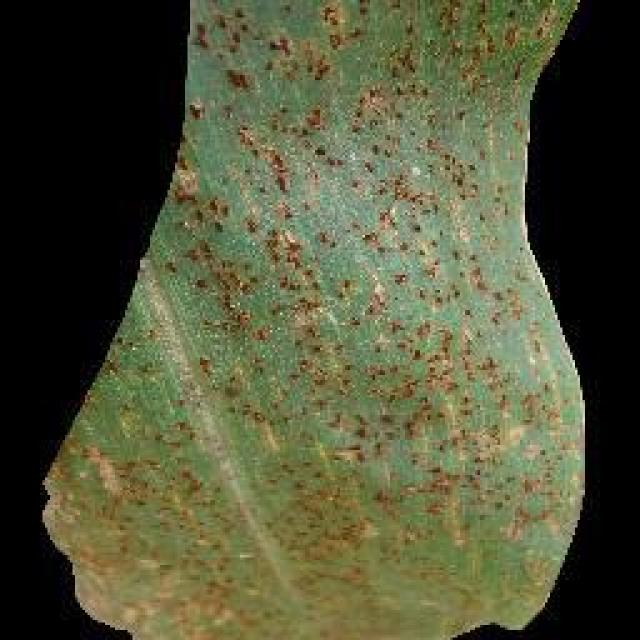Corn Common Rust: (140, 28, 568, 625)
